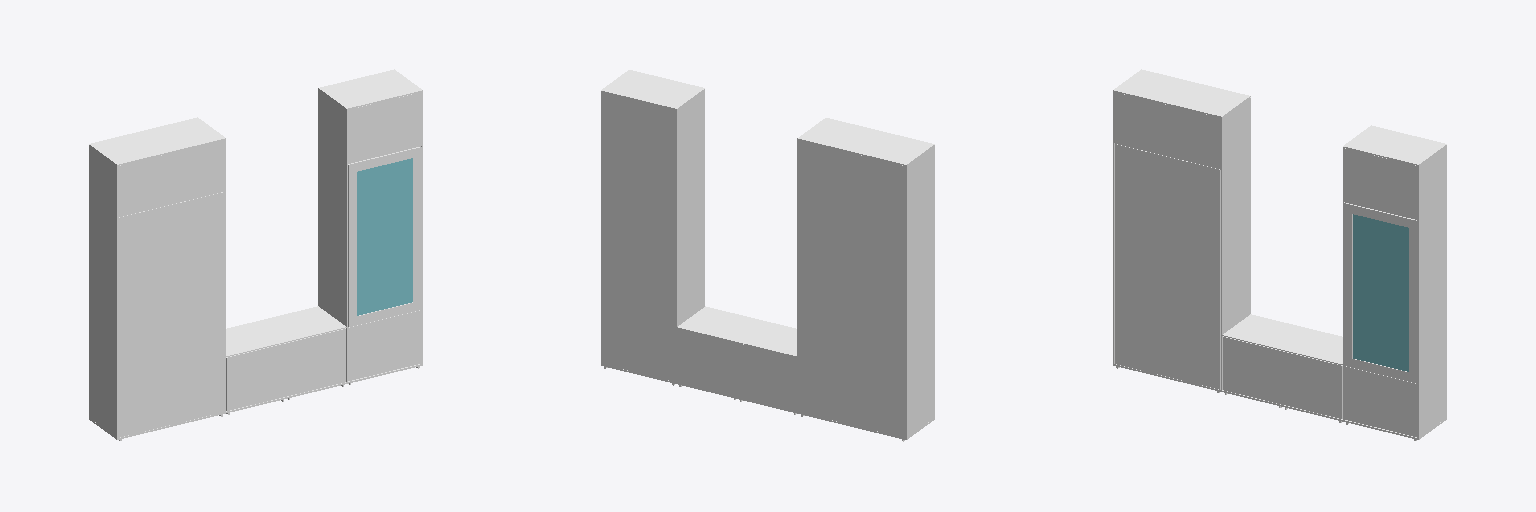
File: OPPHUS.obj
3 views of the same model, side by side, from view 1: azimuth 30°, elevation 25°; view 2: azimuth 150°, elevation 25°; view 3: azimuth 330°, elevation 25° (orthographic).
Parts seen in each view (by area): view 1: Cube.028_Cube.038, Cube.022_Cube.032; view 2: Cube.028_Cube.038; view 3: Cube.028_Cube.038, Cube.022_Cube.032.
Part boxes in pixels (x1,y1,x2,y2): Cube.028_Cube.038: (89,69,422,440); Cube.022_Cube.032: (357,158,412,315); Cube.028_Cube.038: (601,70,934,441); Cube.028_Cube.038: (1113,69,1446,440); Cube.022_Cube.032: (1353,214,1408,371).
Size of the model in its own units: 5.2 by 4.51 by 0.8476.